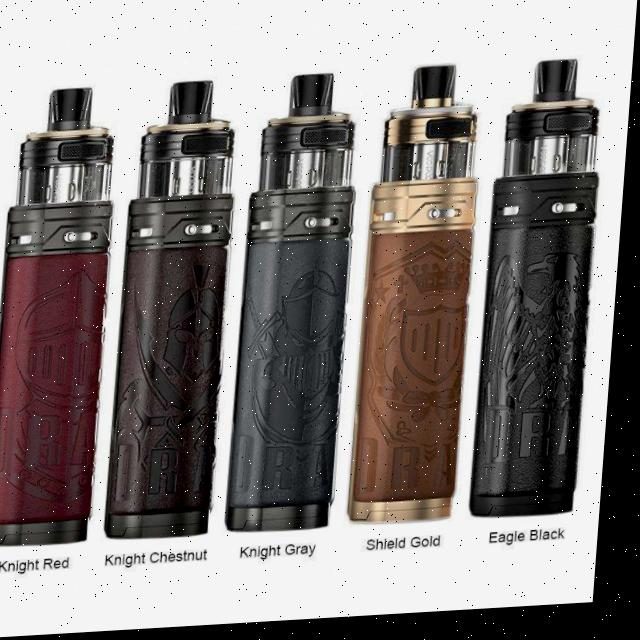vape: (110, 79, 247, 544), (232, 74, 369, 539), (353, 68, 490, 533), (476, 62, 611, 527), (0, 86, 127, 551)
